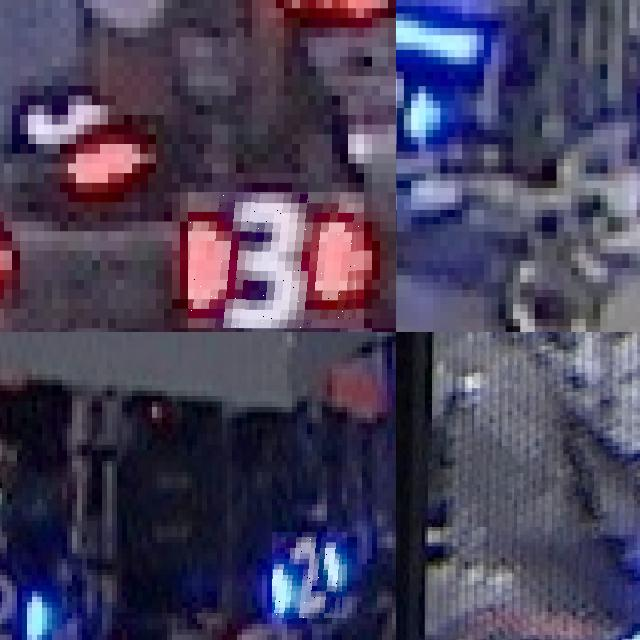B2: (272, 532, 347, 618), (0, 569, 52, 640), (396, 64, 433, 151)
R3: (188, 192, 364, 328)
